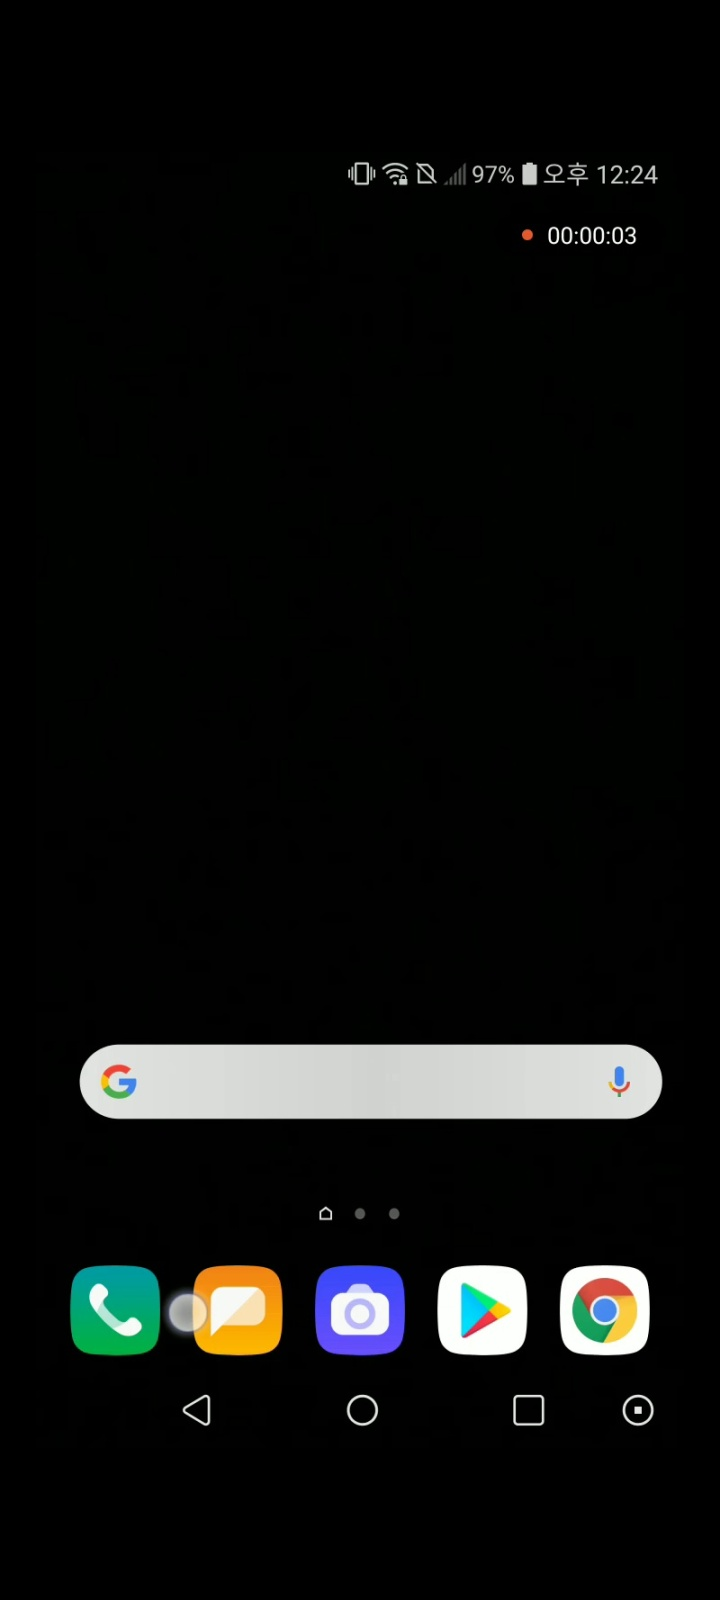Cursor: (166, 1293, 211, 1338)
